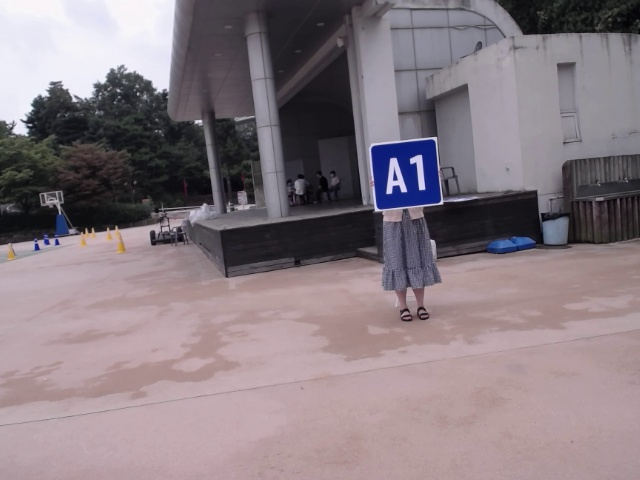delivery_a1: (370, 138, 443, 211)
